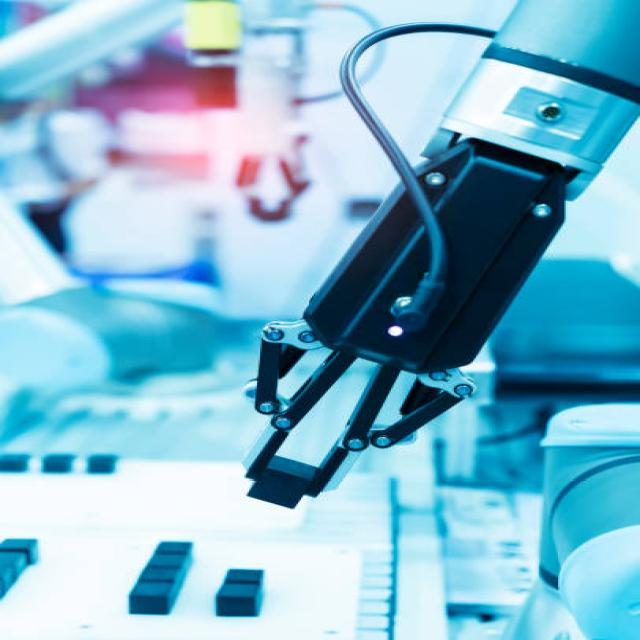Robotic-arm: (227, 0, 640, 510)
